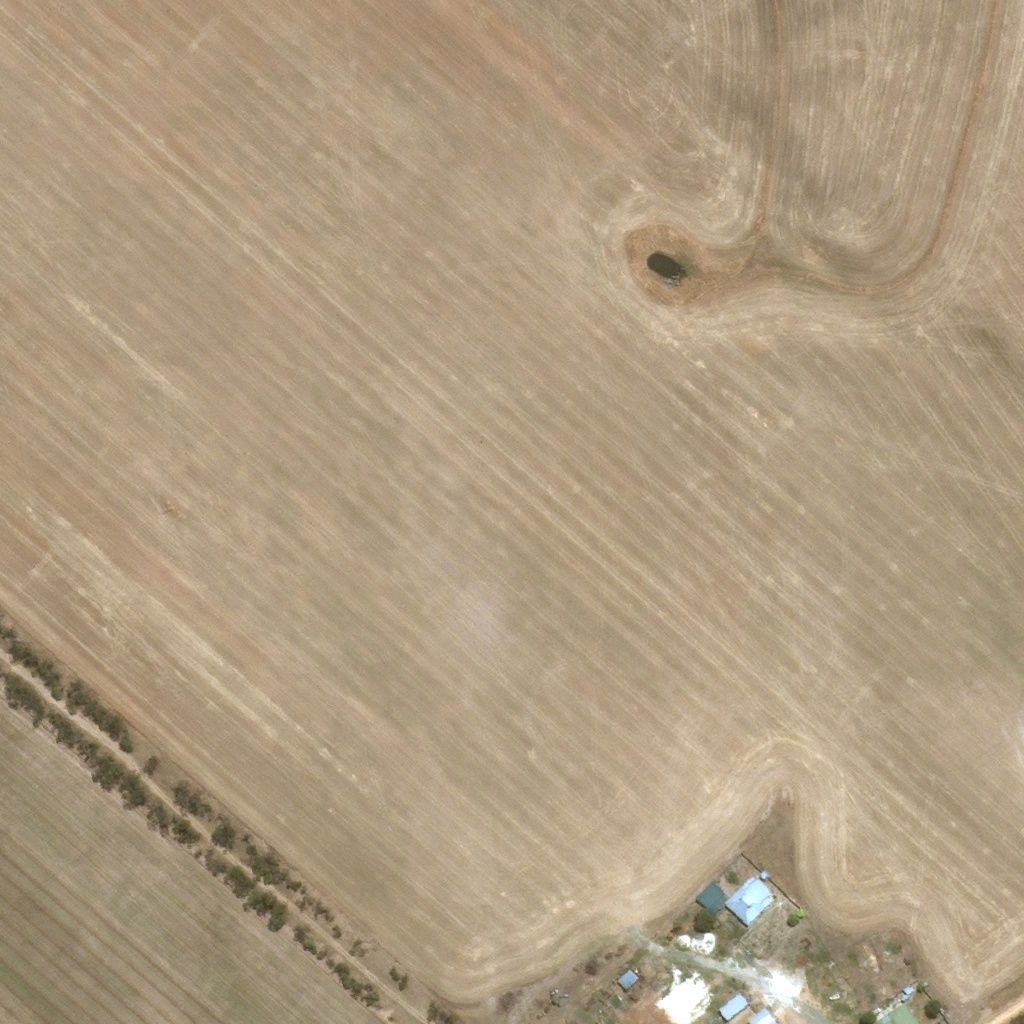0 no-damage: (694, 875, 774, 925), (875, 1003, 917, 1023), (716, 993, 747, 1020), (615, 968, 639, 991), (746, 1008, 775, 1023)
4 un-classified: (673, 934, 714, 956)
